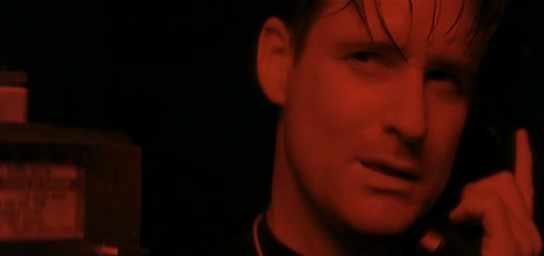cu: (1, 1, 544, 256)
face: (305, 1, 476, 234)
person: (213, 1, 544, 256)
